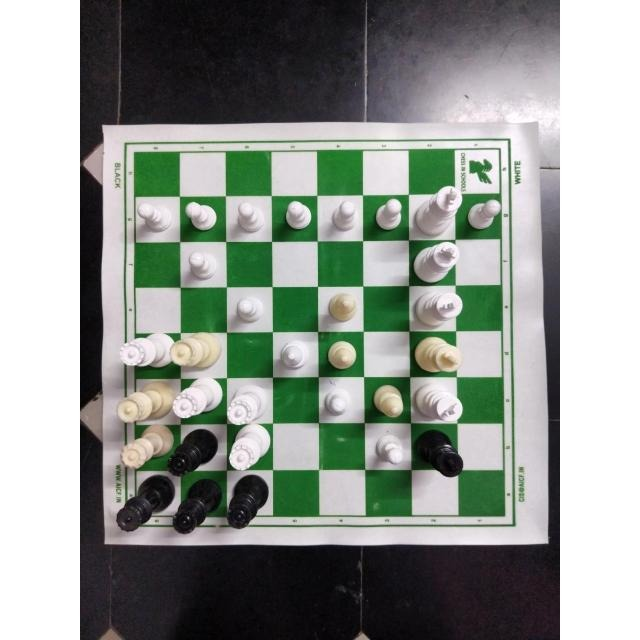black-king: (414, 428, 466, 480)
black-queen: (116, 473, 174, 532), (173, 477, 225, 537), (225, 471, 273, 531), (167, 427, 223, 477)
white-bishop: (323, 286, 365, 328), (276, 338, 320, 375), (368, 380, 407, 420), (321, 338, 363, 375)
white-king: (414, 183, 464, 237), (411, 380, 467, 427), (410, 285, 463, 331), (412, 240, 464, 285), (413, 335, 465, 375)
white-pawn: (372, 425, 412, 469), (132, 198, 176, 234), (179, 247, 223, 283), (370, 193, 408, 234), (464, 196, 504, 233), (230, 199, 268, 237), (178, 198, 217, 234), (278, 199, 314, 238), (325, 198, 361, 236), (321, 385, 357, 421), (232, 293, 268, 325)
white-queen: (169, 376, 225, 424), (116, 379, 174, 423), (116, 425, 174, 469), (117, 331, 176, 372), (226, 421, 274, 469), (168, 332, 226, 371), (222, 380, 270, 425)
